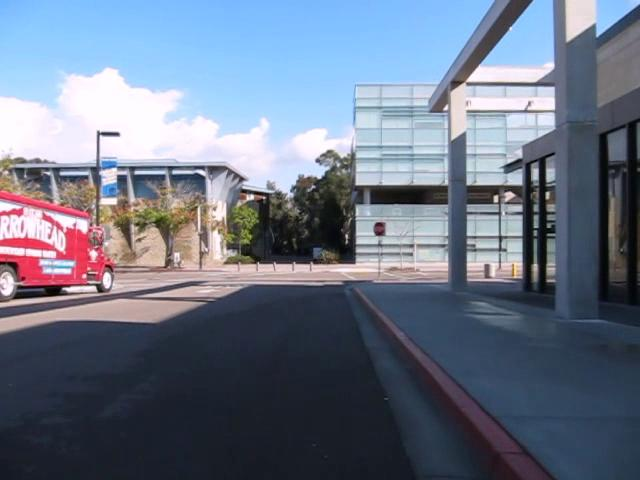stop: (372, 220, 386, 236)
